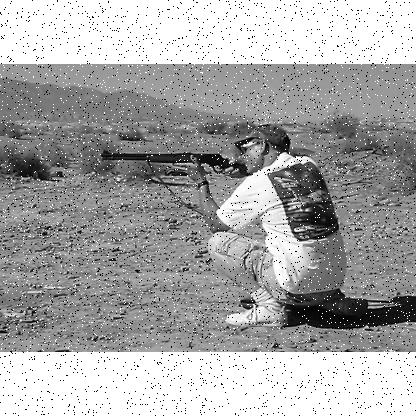gun: (101, 148, 245, 172)
